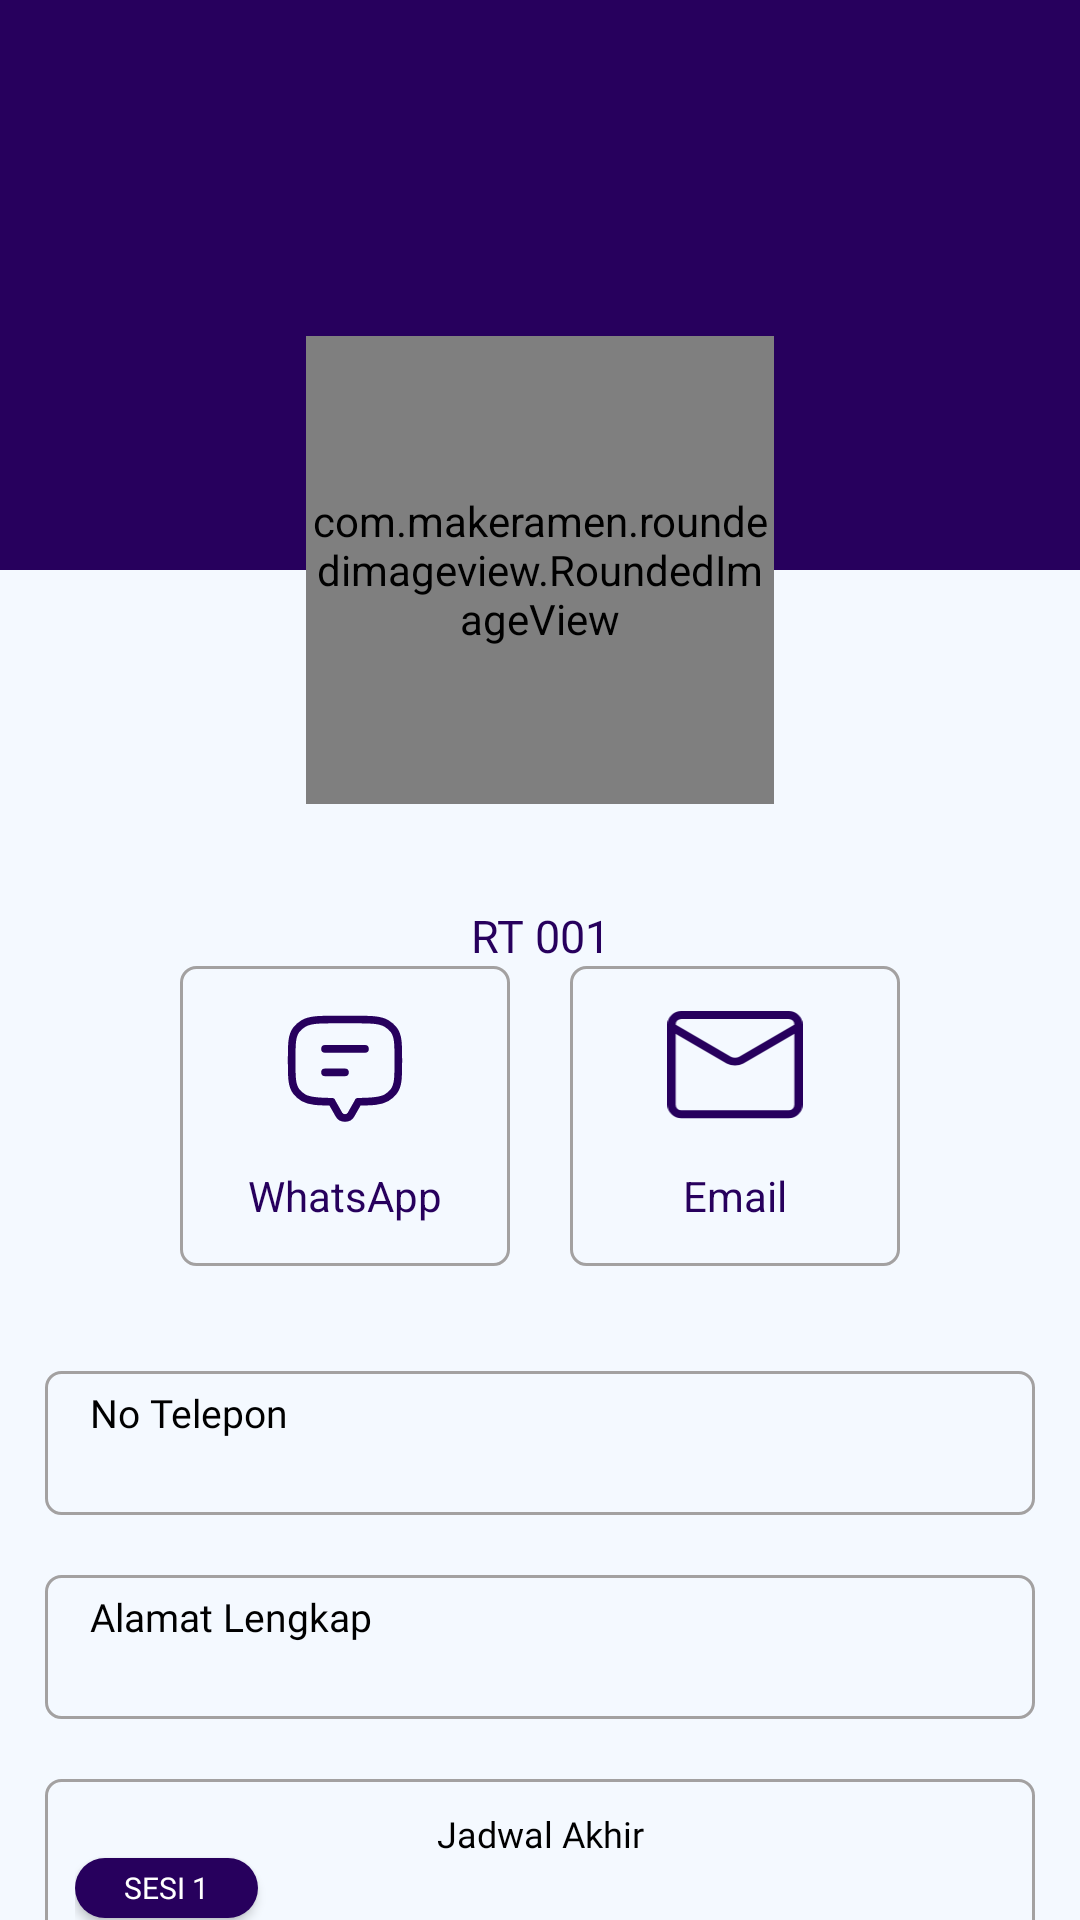

Where to tap for icons on this 1080w x 1920h app screen, as point (x, y):
message: point (345, 1068)
